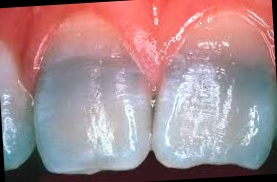Tooth Discoloration: (0, 39, 277, 182)
